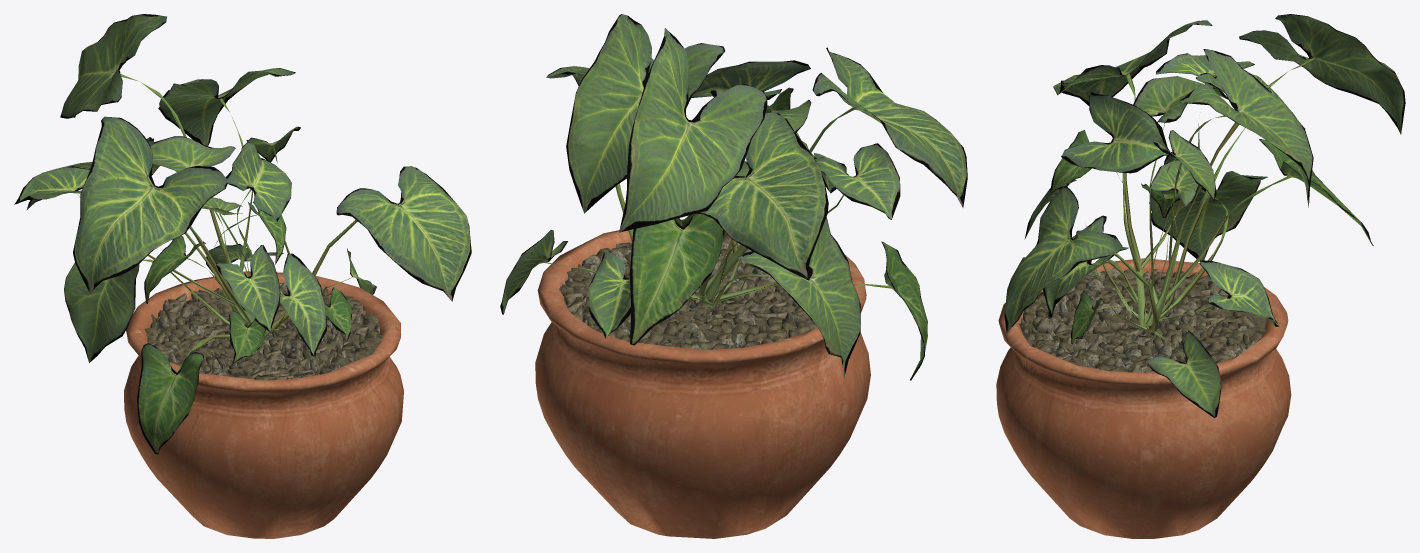
The model's file is plant-02.glb.
The picture shows the model from 3 angles, left to right: view 1: azimuth 30°, elevation 25°; view 2: azimuth 150°, elevation 25°; view 3: azimuth 270°, elevation 25°; orthographic projection. The views are drawn at different scales.
Parts seen in each view (by area): view 1: potted_plant_02_leaves, potted_plant_02_pot, potted_plant_02_dirt; view 2: potted_plant_02_leaves, potted_plant_02_pot, potted_plant_02_dirt; view 3: potted_plant_02_leaves, potted_plant_02_pot, potted_plant_02_dirt.
Part boxes in pixels (x1,y1,x2,y2): potted_plant_02_leaves: (14, 14, 471, 454); potted_plant_02_pot: (124, 271, 403, 538); potted_plant_02_dirt: (144, 282, 383, 380); potted_plant_02_leaves: (500, 14, 967, 380); potted_plant_02_pot: (535, 219, 870, 538); potted_plant_02_dirt: (559, 233, 816, 349); potted_plant_02_leaves: (1004, 14, 1405, 417); potted_plant_02_pot: (996, 258, 1291, 538); potted_plant_02_dirt: (1019, 268, 1266, 372).
Bounding box in the file's own units: 0.7009 × 0.8397 × 0.6561.
Materials: 2 (2 with a texture image).
